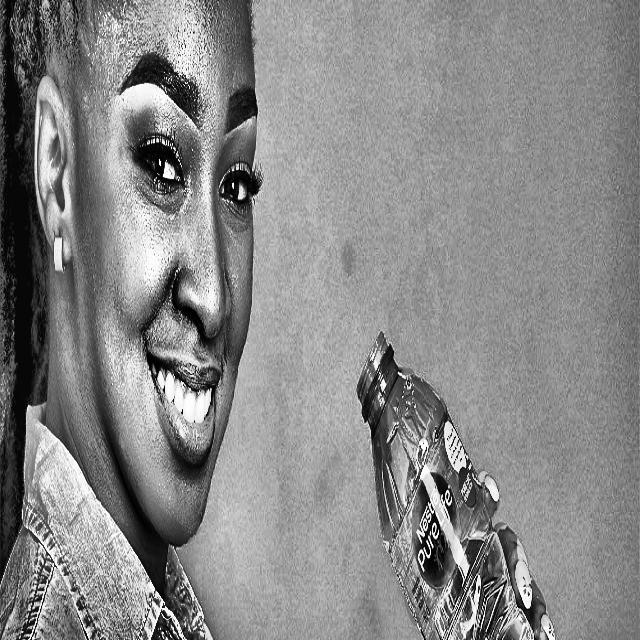waterbottle: (357, 331, 534, 638)
